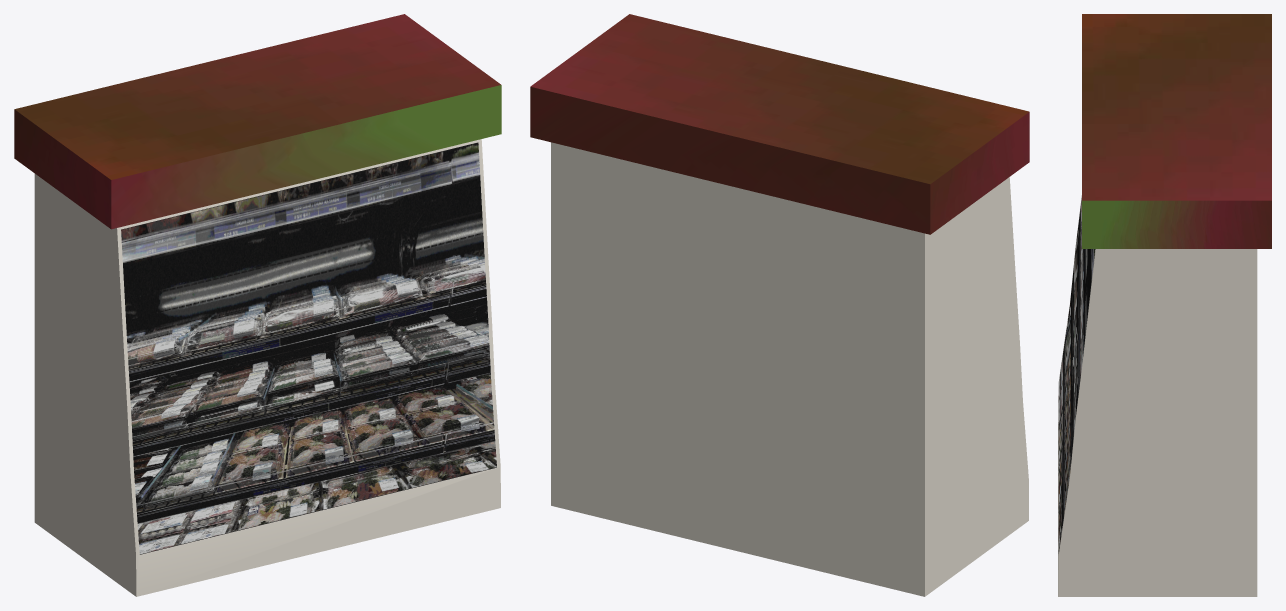
Rendered from sushishelf.fbx.
3 renders of one model, left to right at view 1: azimuth 30°, elevation 25°; view 2: azimuth 150°, elevation 25°; view 3: azimuth 270°, elevation 25°, orthographic. The views are drawn at different scales.
Visible parts, largest first — view 1: sushi; view 2: sushi; view 3: sushi.
Part boxes in pixels (<box>): sushi: <box>14,14,501,596</box>; sushi: <box>530,14,1029,596</box>; sushi: <box>1058,14,1271,596</box>.
Bounding box in the file's own units: 213 × 214 × 103.
